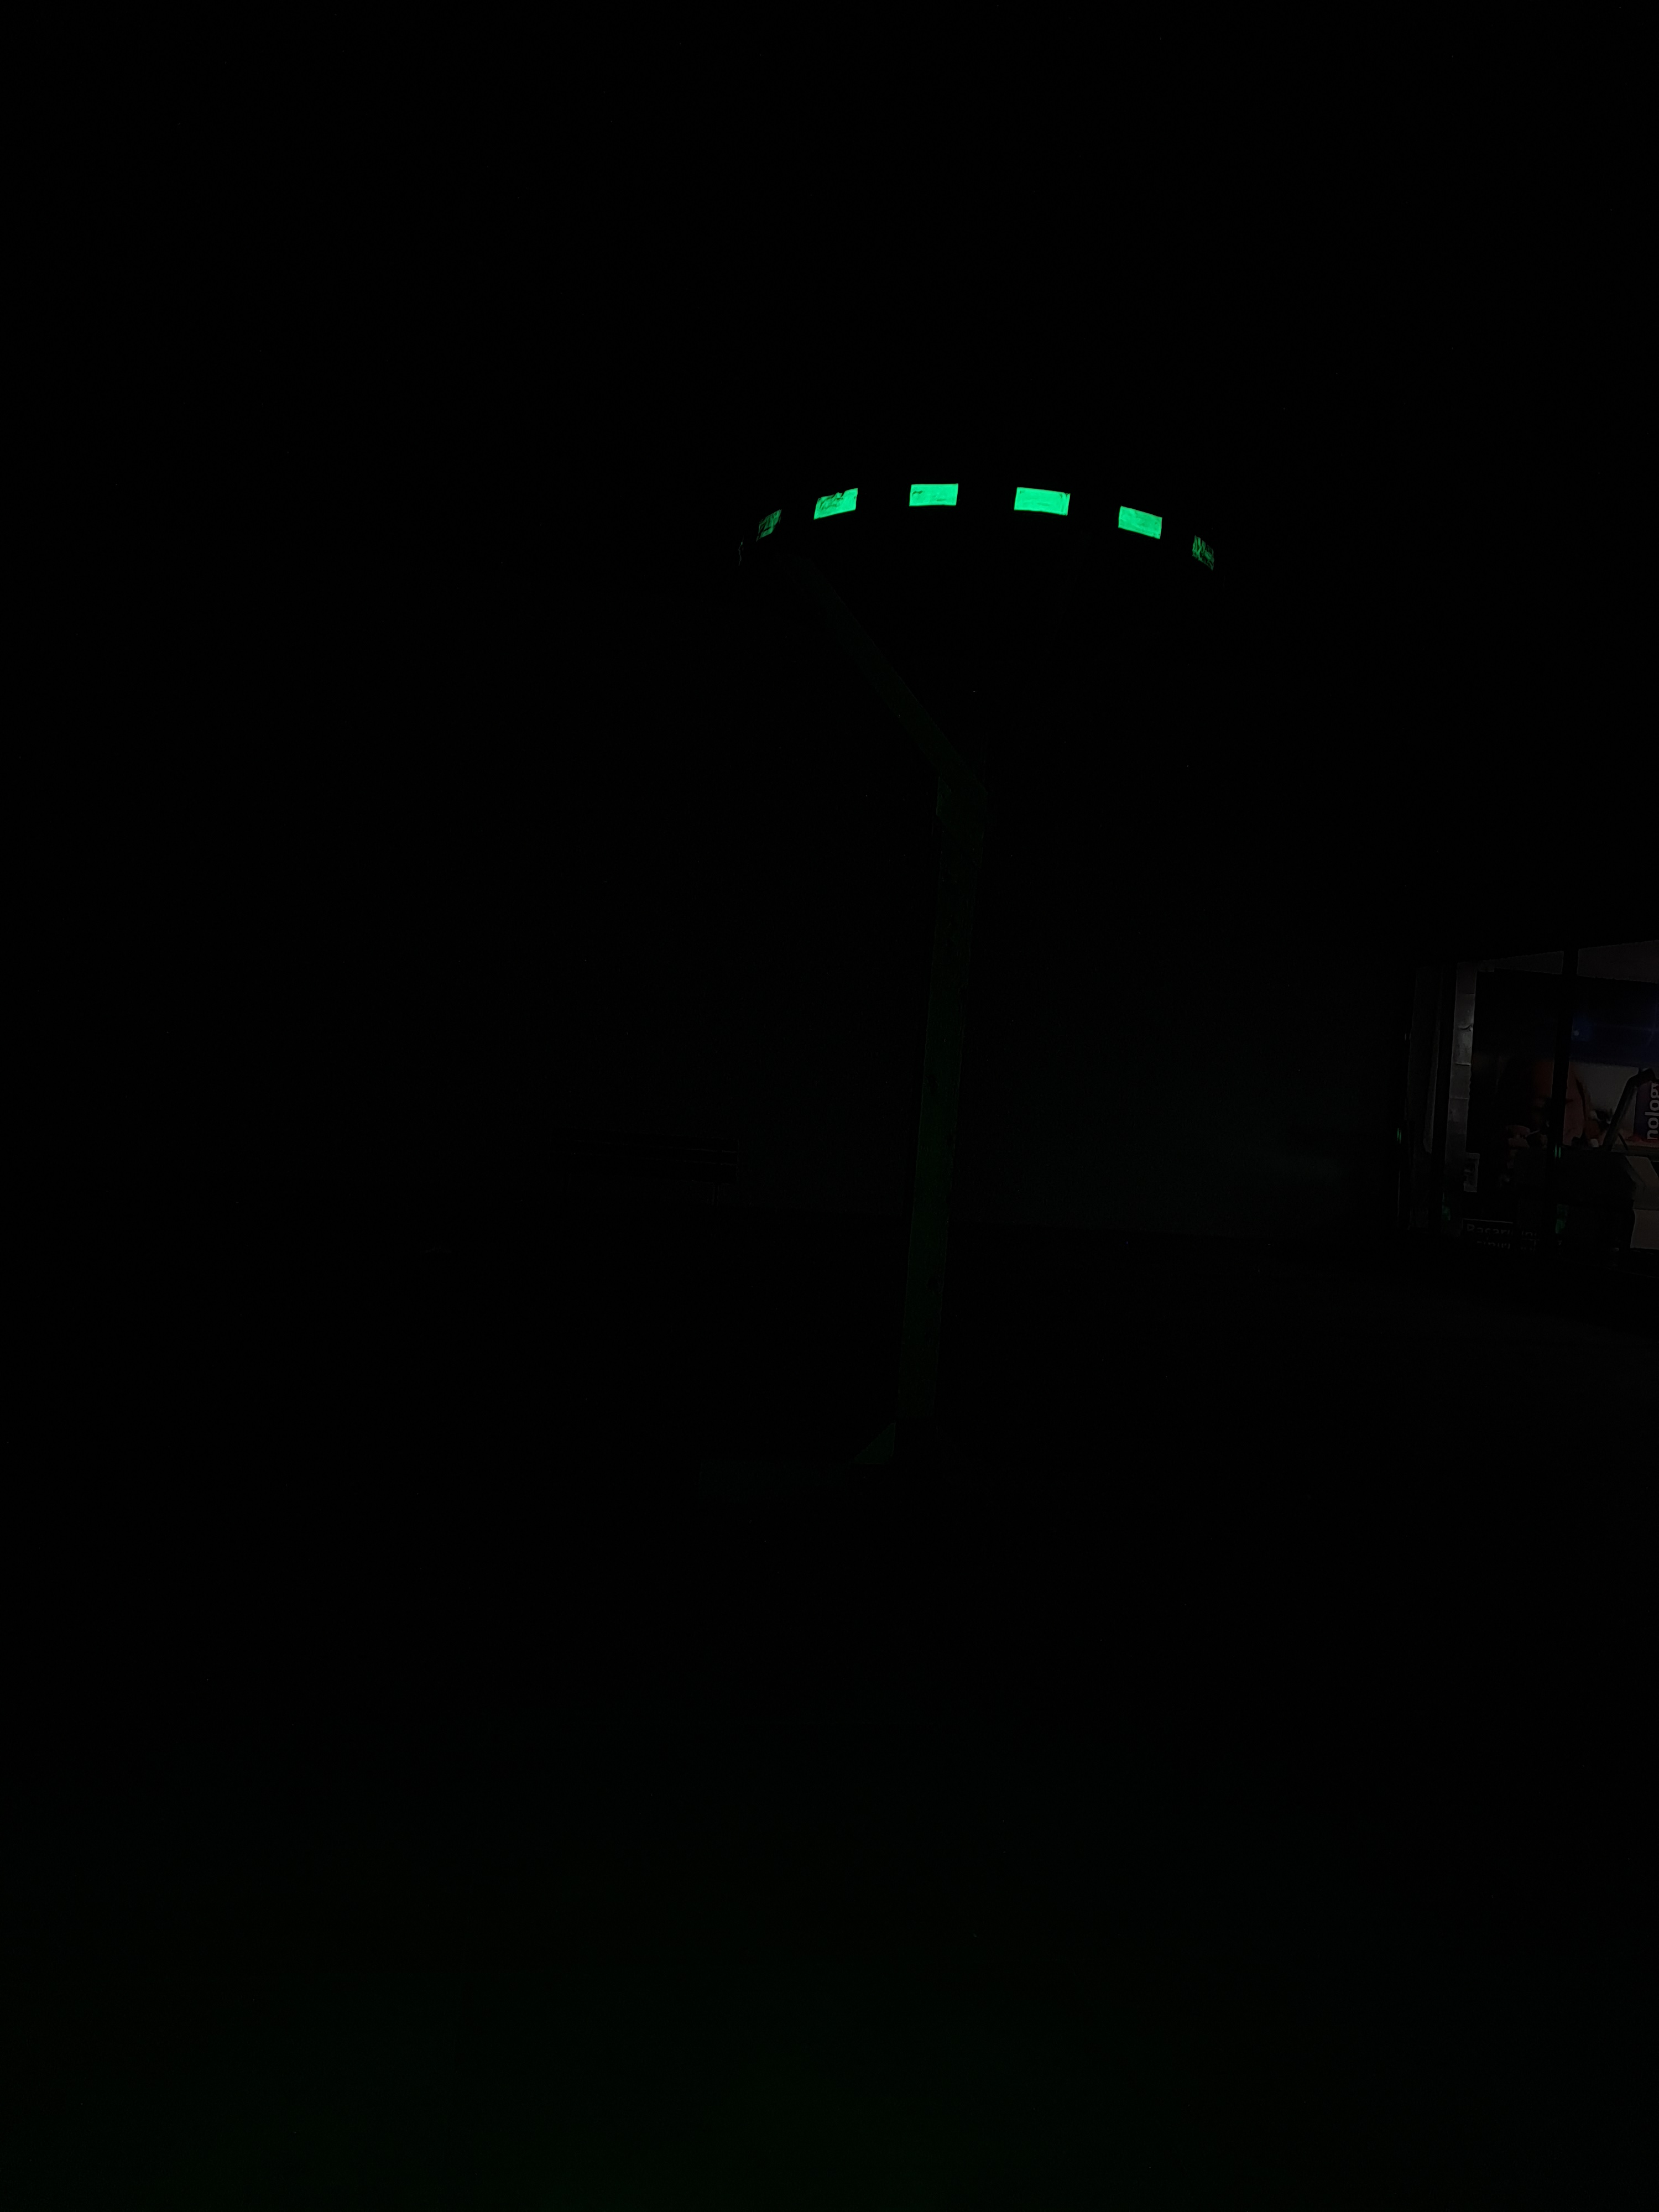hoop: (701, 449, 1253, 601)
